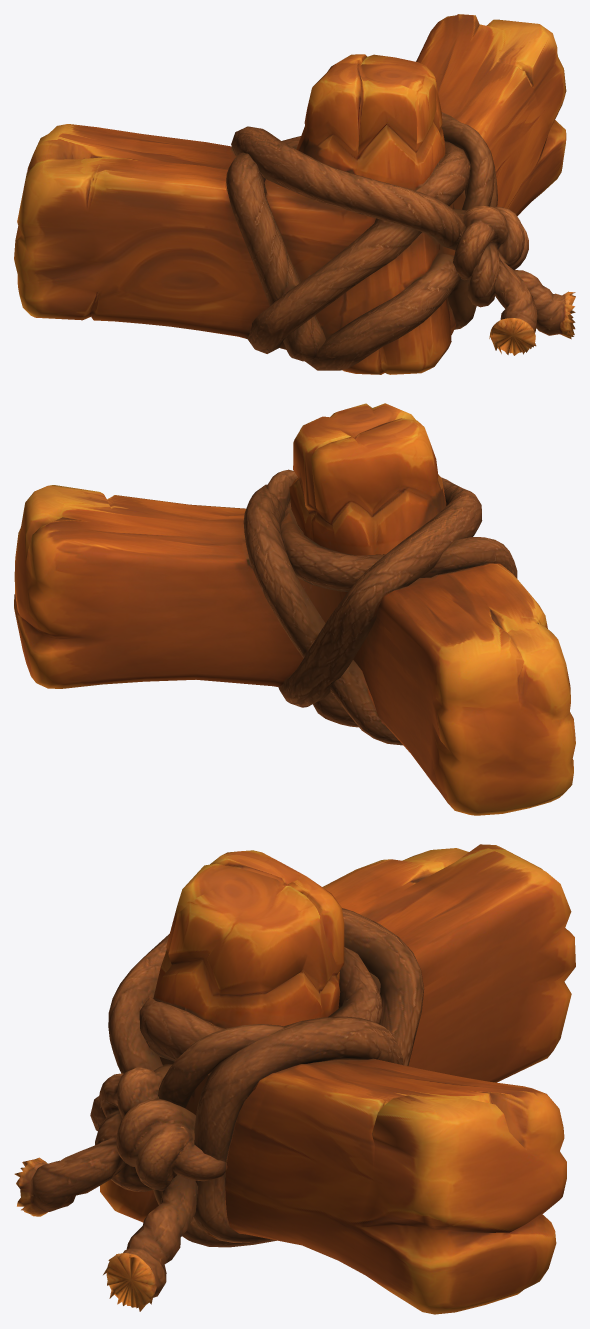
The model's file is rope-corner.glb.
3 renders of one model, top to bottom at view 1: azimuth 30°, elevation 25°; view 2: azimuth 150°, elevation 25°; view 3: azimuth 270°, elevation 25°, orthographic. The views are drawn at different scales.
Parts seen in each view (by area): view 1: tripo_node_0c22a9ed-622d-4424-b969-128d86c41cc6; view 2: tripo_node_0c22a9ed-622d-4424-b969-128d86c41cc6; view 3: tripo_node_0c22a9ed-622d-4424-b969-128d86c41cc6.
Part boxes in pixels (bbox=[...]): tripo_node_0c22a9ed-622d-4424-b969-128d86c41cc6: bbox=[14, 14, 575, 374]; tripo_node_0c22a9ed-622d-4424-b969-128d86c41cc6: bbox=[14, 403, 575, 815]; tripo_node_0c22a9ed-622d-4424-b969-128d86c41cc6: bbox=[14, 844, 575, 1314].
Size of the model in its own units: 0.9995 by 0.4839 by 0.7124.
1 material, 1 textured.
